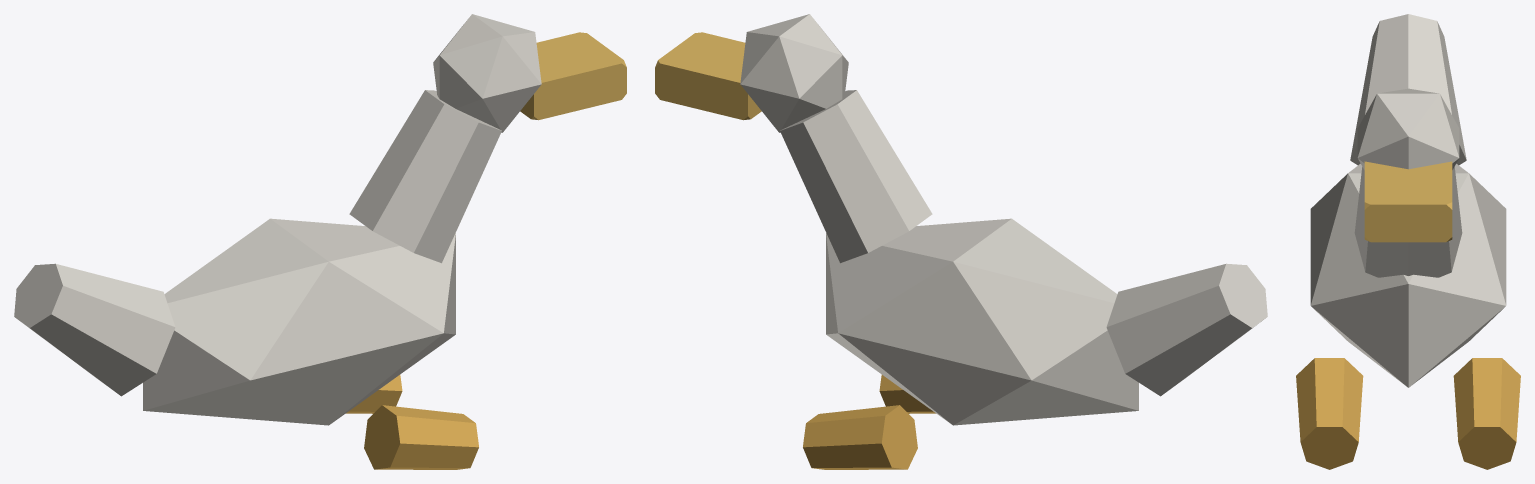
3 renders of one model, left to right at view 1: azimuth 30°, elevation 25°; view 2: azimuth 150°, elevation 25°; view 3: azimuth 270°, elevation 25°, orthographic. The views are drawn at different scales.
Parts seen in each view (by area): view 1: part0, part1, part4, part2, part6, part3, part5; view 2: part0, part1, part4, part2, part5, part3, part6; view 3: part0, part3, part2, part4, part5, part6, part1.
Part boxes in pixels (left/top/right/bottom): part0: left=143, top=218, right=455, bottom=425; part1: left=349, top=90, right=501, bottom=263; part4: left=14, top=263, right=175, bottom=396; part2: left=433, top=14, right=541, bottom=132; part6: left=364, top=405, right=478, bottom=469; part3: left=520, top=32, right=626, bottom=120; part5: left=346, top=375, right=402, bottom=413; part0: left=826, top=218, right=1138, bottom=425; part1: left=780, top=90, right=932, bottom=263; part4: left=1106, top=263, right=1267, bottom=396; part2: left=740, top=14, right=848, bottom=132; part5: left=803, top=405, right=917, bottom=469; part3: left=655, top=32, right=761, bottom=120; part6: left=879, top=375, right=935, bottom=413; part0: left=1310, top=163, right=1506, bottom=387; part3: left=1364, top=161, right=1452, bottom=242; part2: left=1357, top=88, right=1459, bottom=169; part4: left=1350, top=14, right=1466, bottom=165; part5: left=1453, top=358, right=1520, bottom=469; part6: left=1296, top=358, right=1363, bottom=469; part1: left=1354, top=167, right=1462, bottom=277.
Size of the model in its own units: 3.01 by 1.97 by 0.9781.
